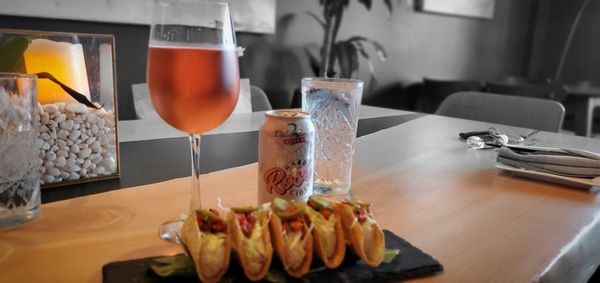pizza: (300, 76, 365, 195), (257, 108, 317, 206)
